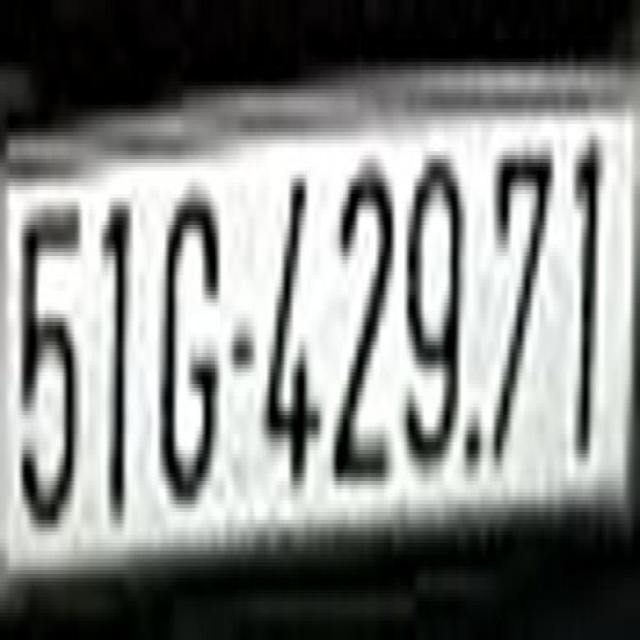1: (568, 140, 602, 473), (98, 182, 129, 520)
2: (332, 171, 392, 488)
4: (265, 162, 321, 500)
5: (21, 198, 80, 528)
7: (488, 140, 553, 473)
9: (402, 144, 461, 478)
G: (160, 166, 219, 508)
